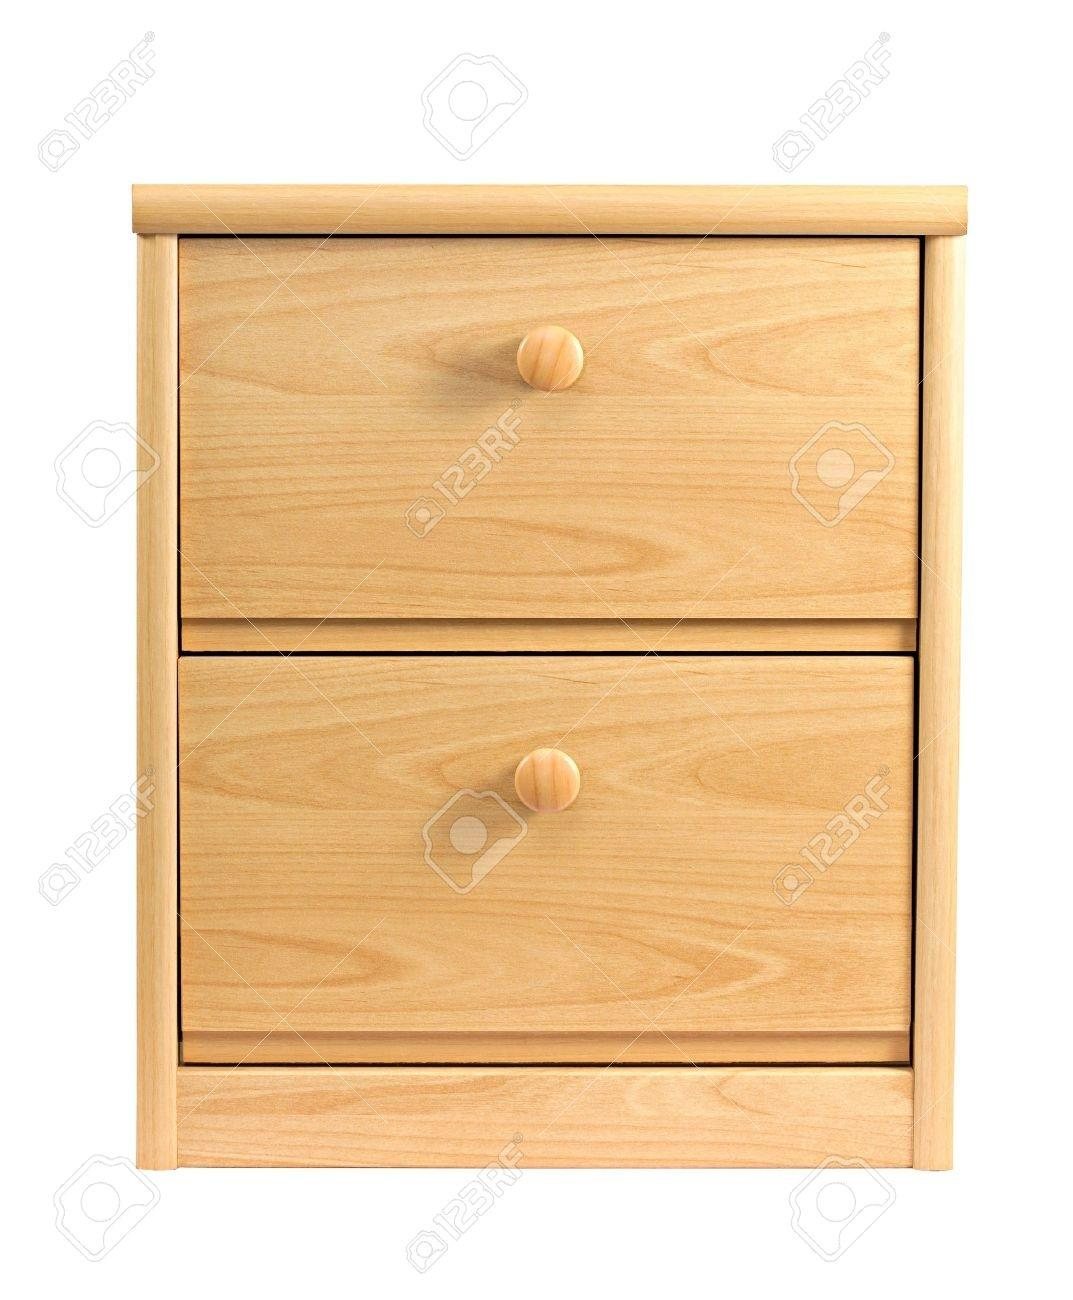cabinet_door: (172, 647, 913, 1047), (172, 233, 920, 613)
handle: (506, 736, 587, 841), (510, 316, 594, 408)
